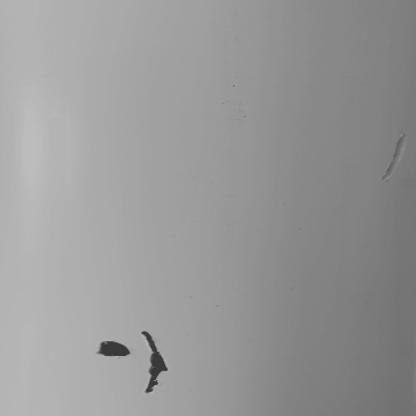kongdong: (139, 329, 169, 393), (94, 338, 132, 359)
sunshang: (381, 131, 411, 182)
